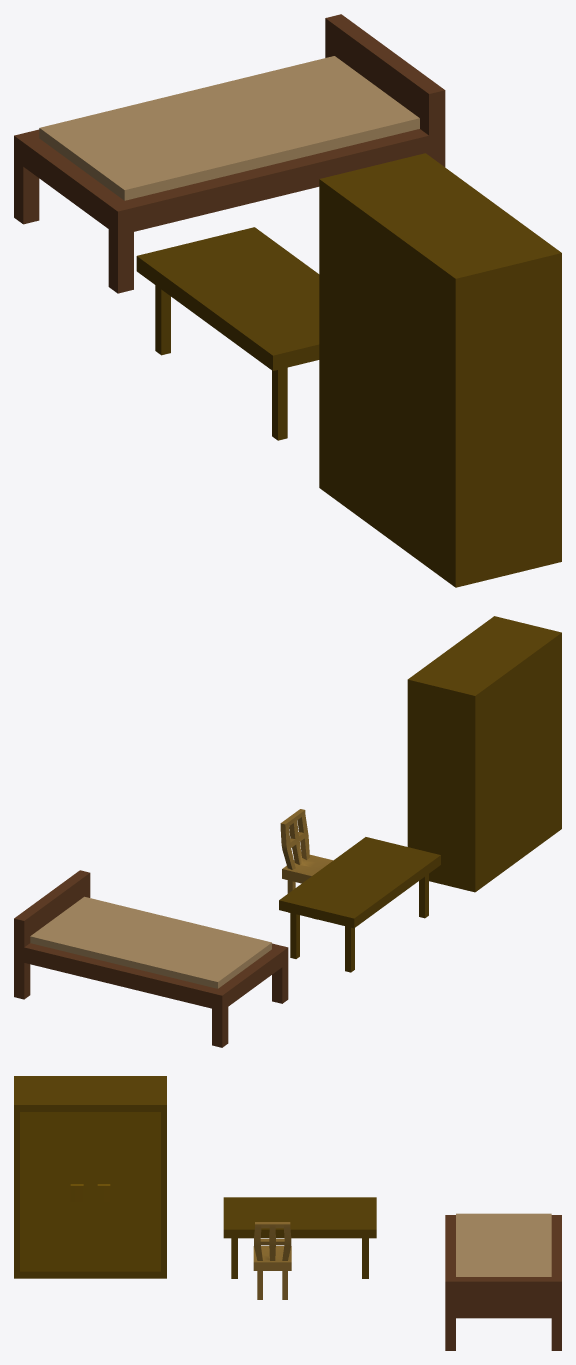
The model's file is room_assets.fbx.
The picture shows the model from 3 angles, top to bottom: view 1: azimuth 30°, elevation 25°; view 2: azimuth 150°, elevation 25°; view 3: azimuth 270°, elevation 25°; orthographic projection. The views are drawn at different scales.
Parts seen in each view (by area): view 1: closet, met, wooden_bed, desk; view 2: closet, met, wooden_bed, desk, chair; view 3: R_door, L_door, closet, wooden_bed, desk, met, chair.
Part boxes in pixels (x1,y1,x2,y2): closet: (319, 153, 561, 587); met: (39, 56, 419, 200); wooden_bed: (14, 14, 445, 293); desk: (136, 227, 319, 440); closet: (407, 616, 561, 892); met: (30, 896, 271, 988); wooden_bed: (14, 870, 288, 1047); desk: (279, 837, 440, 972); chair: (280, 809, 332, 919); R_door: (90, 1112, 160, 1271); L_door: (20, 1112, 90, 1271); closet: (14, 1076, 166, 1278); wooden_bed: (445, 1215, 561, 1350); desk: (223, 1197, 376, 1278); met: (456, 1213, 551, 1276); chair: (253, 1222, 291, 1299).
Size of the model in its own units: 1266 by 1000 by 2863.
